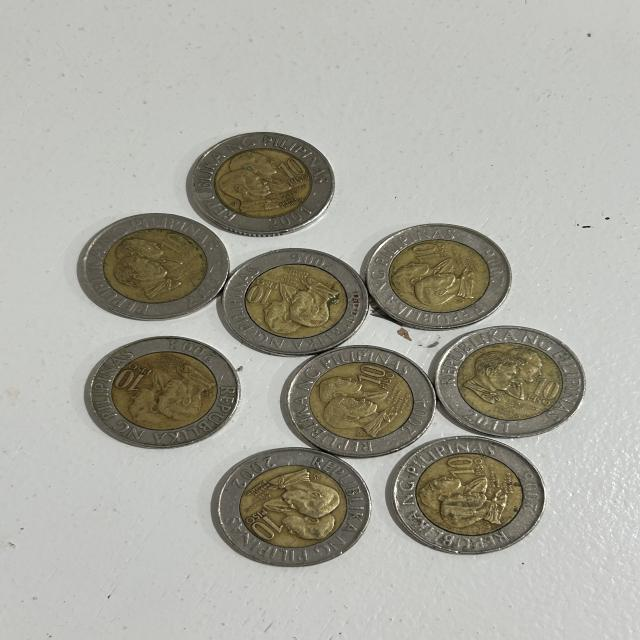10_Old_Front: (236, 502, 291, 543), (108, 359, 158, 400), (352, 356, 398, 396)
